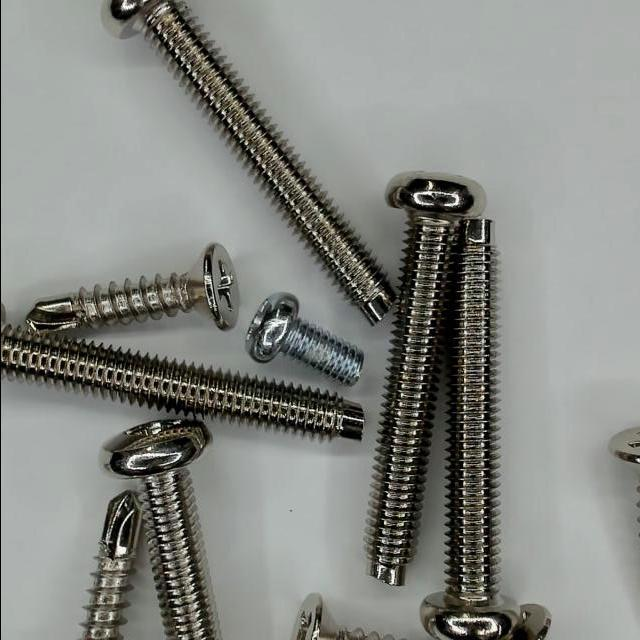Screw: (102, 0, 396, 324), (367, 172, 486, 586), (422, 219, 523, 640), (1, 325, 365, 440), (104, 420, 220, 640), (25, 243, 239, 333), (246, 293, 365, 385), (82, 491, 141, 640), (292, 594, 396, 640)
